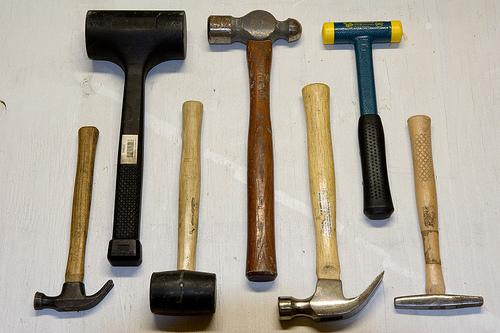hammer: (205, 8, 303, 282), (275, 81, 385, 324), (31, 123, 117, 314)
